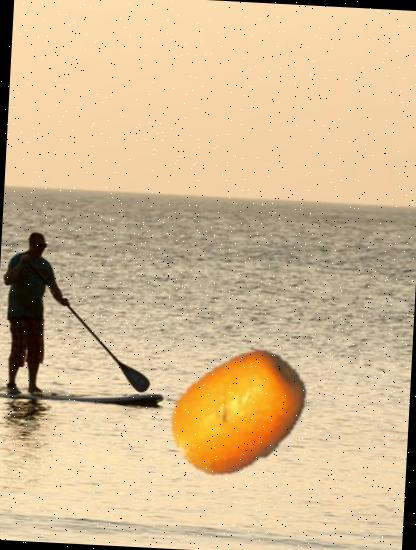Kumquats: (162, 336, 315, 488)
